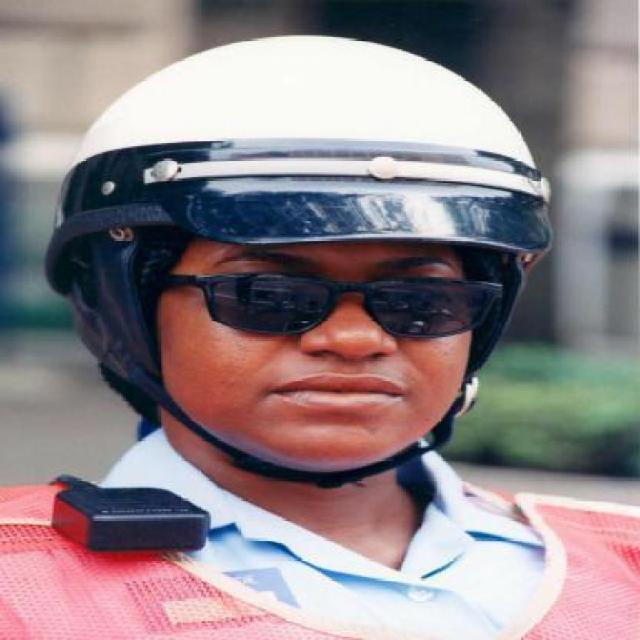helmet: (50, 32, 556, 268)
